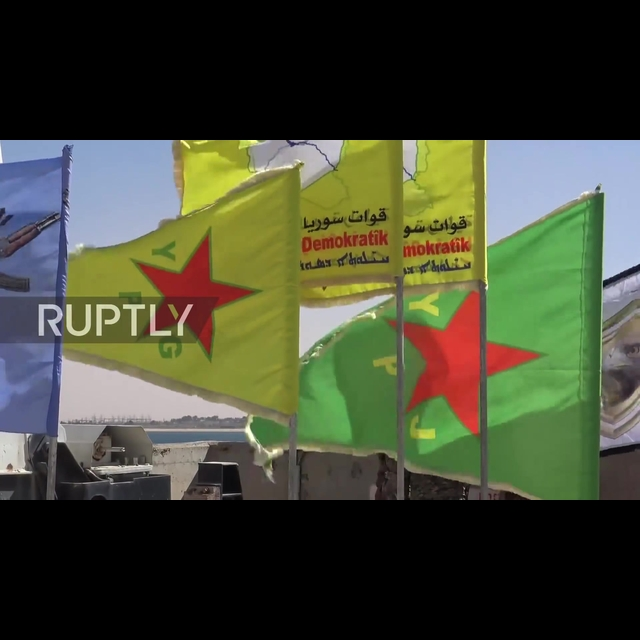YPJ: (362, 302, 545, 444)
